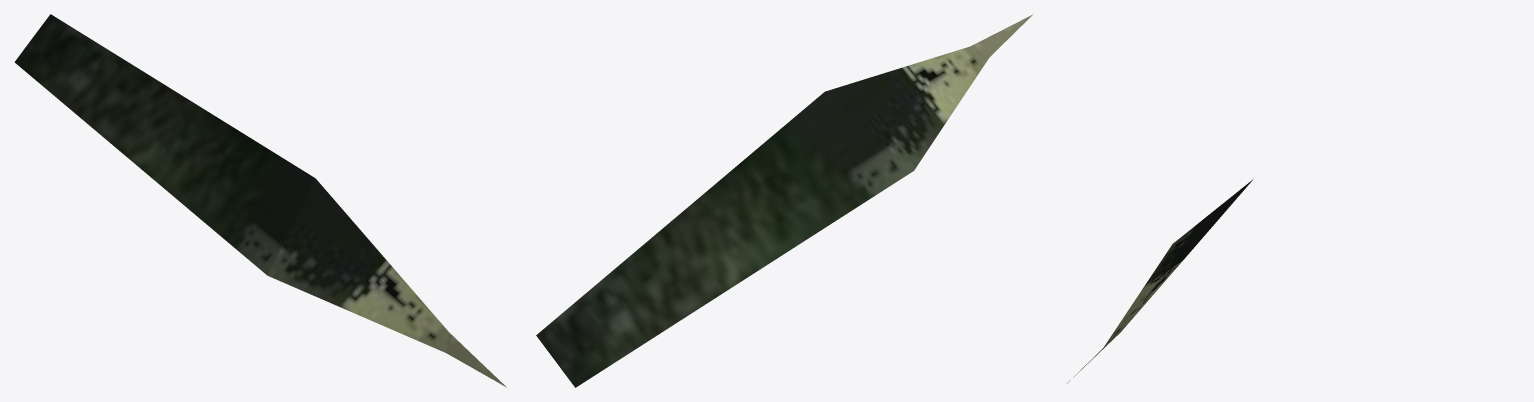
3 renders of one model, left to right at view 1: azimuth 30°, elevation 25°; view 2: azimuth 150°, elevation 25°; view 3: azimuth 330°, elevation 25°, orthographic. The views are drawn at different scales.
Size of the model in its own units: 0.3275 by 0.333 by 3.99.
Materials: 1 (1 with a texture image).
